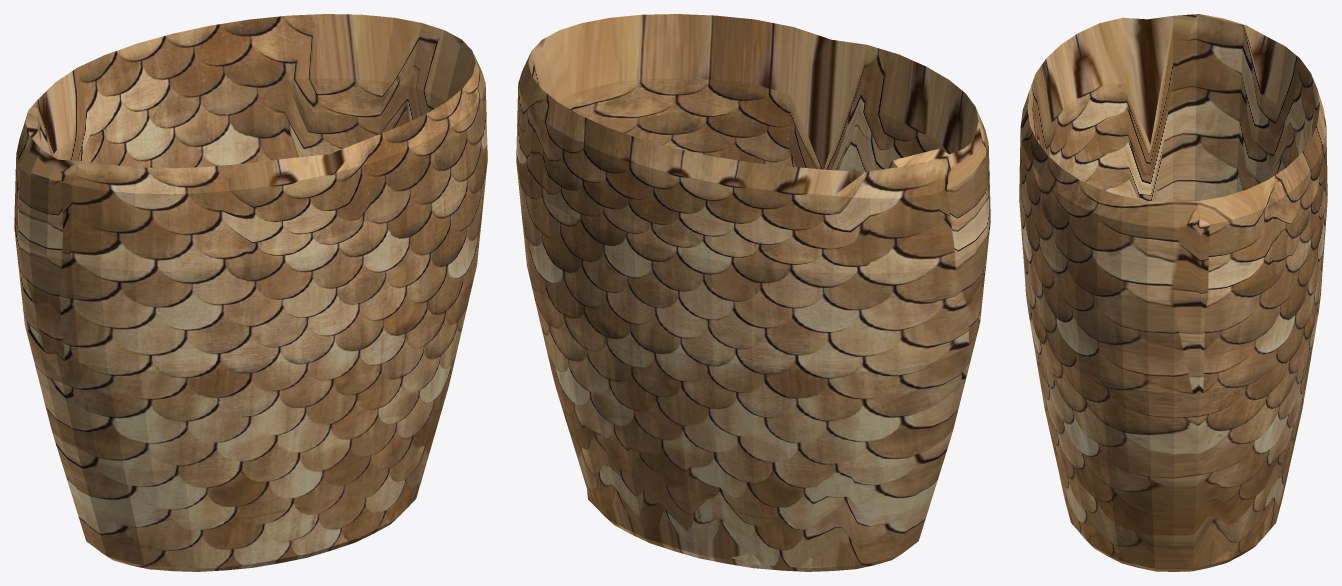
The model's file is Jarron3.fbx.
3 renders of one model, left to right at view 1: azimuth 30°, elevation 25°; view 2: azimuth 150°, elevation 25°; view 3: azimuth 270°, elevation 25°, orthographic. The views are drawn at different scales.
Visible parts, largest first — view 1: Baso 3; view 2: Baso 3; view 3: Baso 3.
Part boxes in pixels (x1,y1,x2,y2): Baso 3: (14, 14, 487, 571); Baso 3: (516, 14, 990, 571); Baso 3: (1019, 14, 1327, 571).
Size of the model in its own units: 0.7161 by 0.6678 by 0.4612.
1 material, 1 textured.
